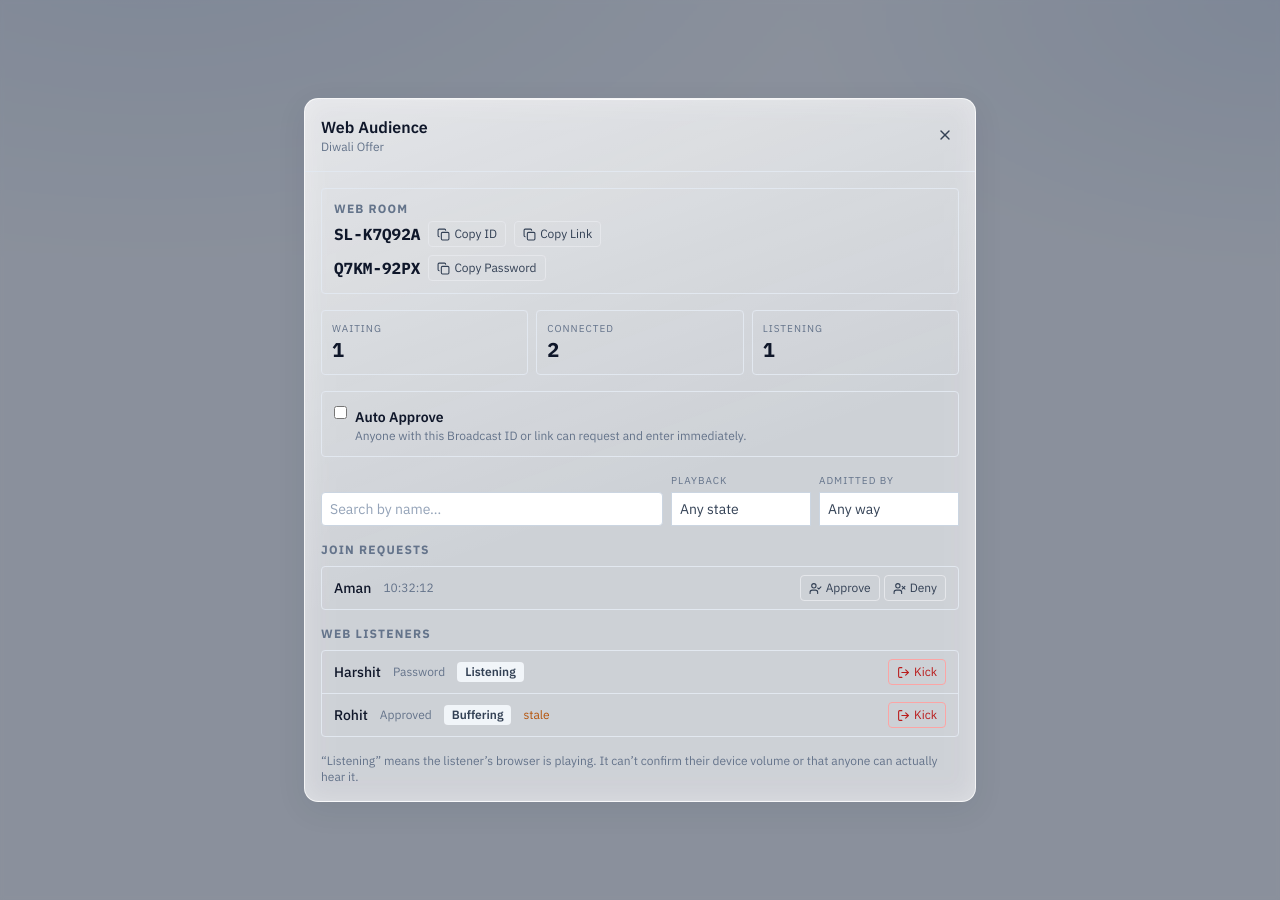
it: a refused action is reported rather than swallowed
Click the button with test id "supervised-kick-21" at (917, 672), box left=888, top=659, right=946, bottom=685
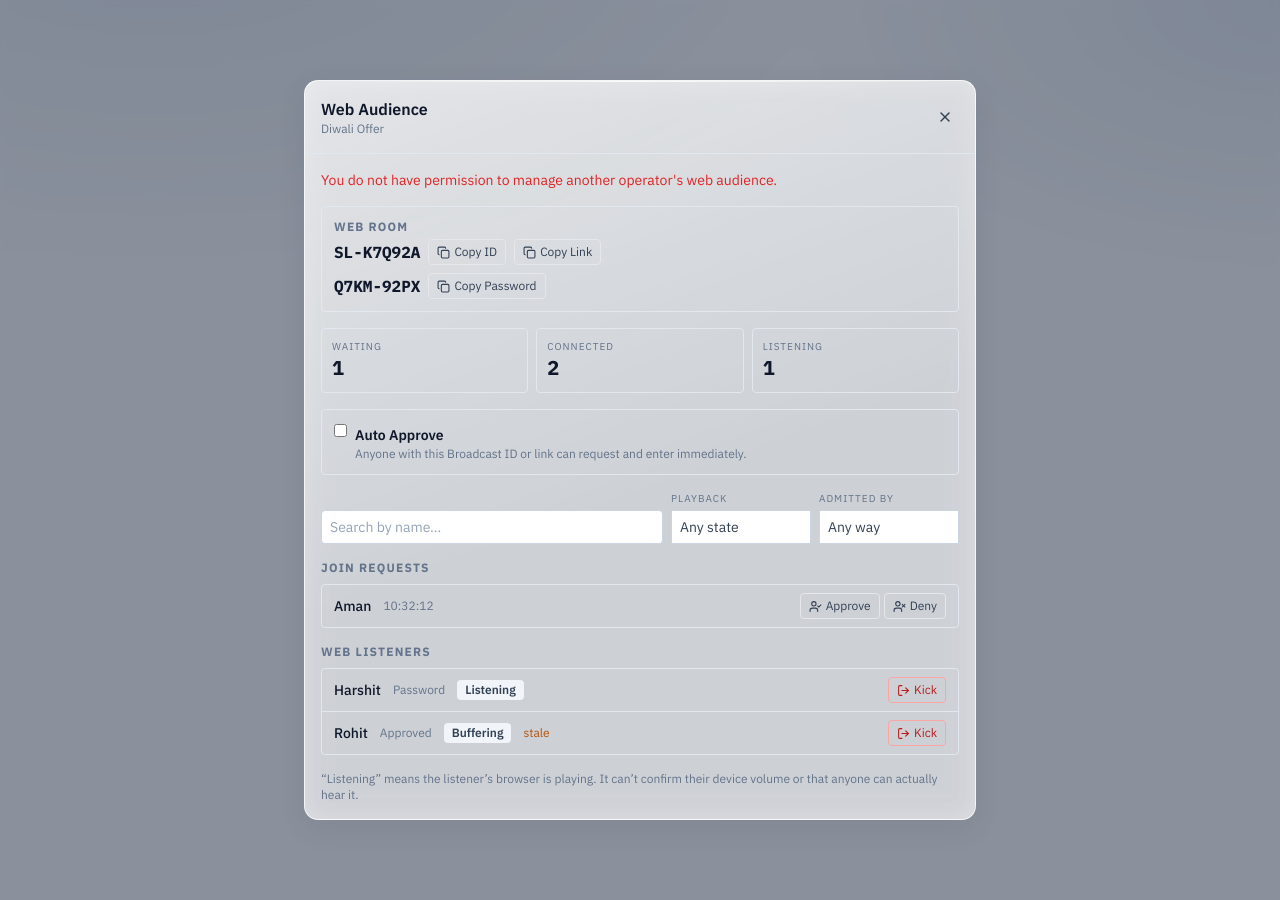
Expected: the text with test id "supervised-audience-error" shows "do not have permission", left=321, top=171, right=777, bottom=189
